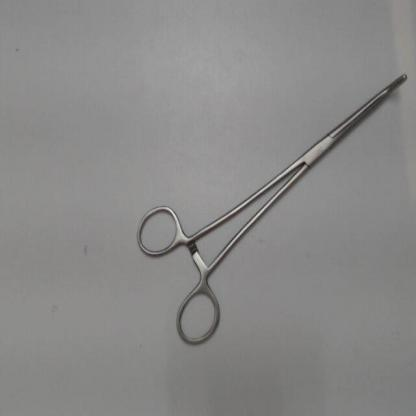Lahey Forceps: (133, 62, 413, 351)
